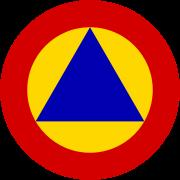Stop: (8, 11, 176, 170)
